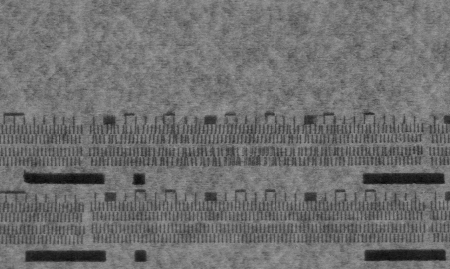Oblique printing: (87, 123, 427, 169)
